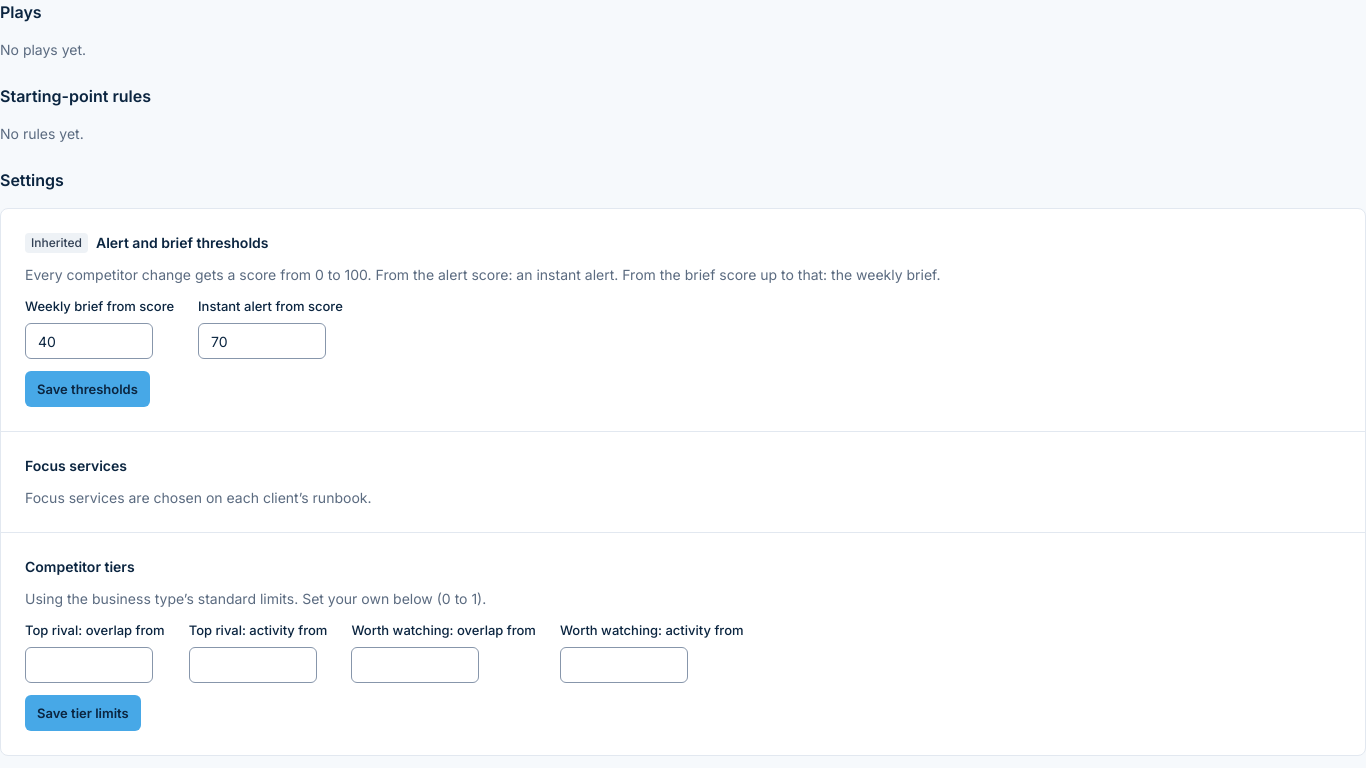
Test: RunbookEditor › uses the same refusal copy as alert rules for thresholds
The width and height of the screenshot is (1366, 768).
Replace the text in the number field labelled "Weekly brief from score" with "80". click: (89, 341)
box: [25,323,153,359]
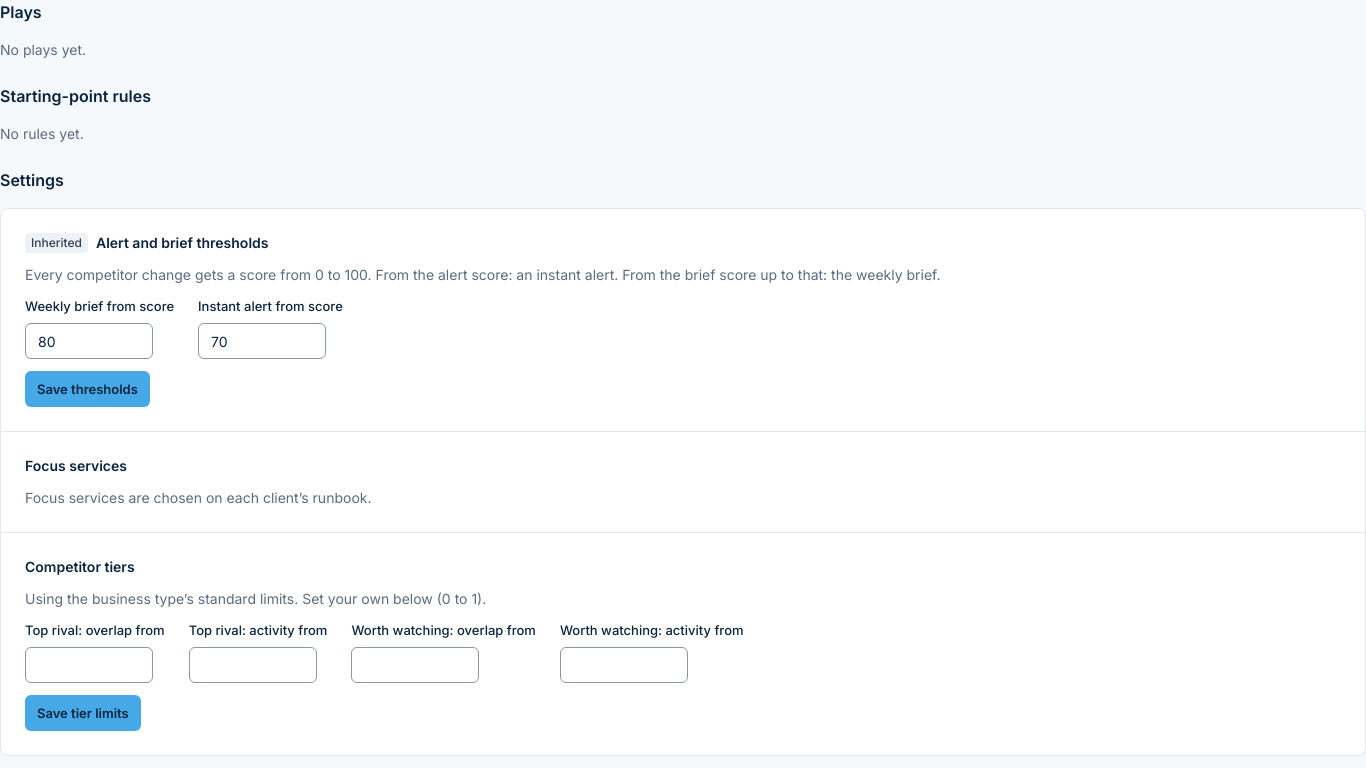
Click the button "Save thresholds". click: click(87, 389)
box: [25,371,150,407]
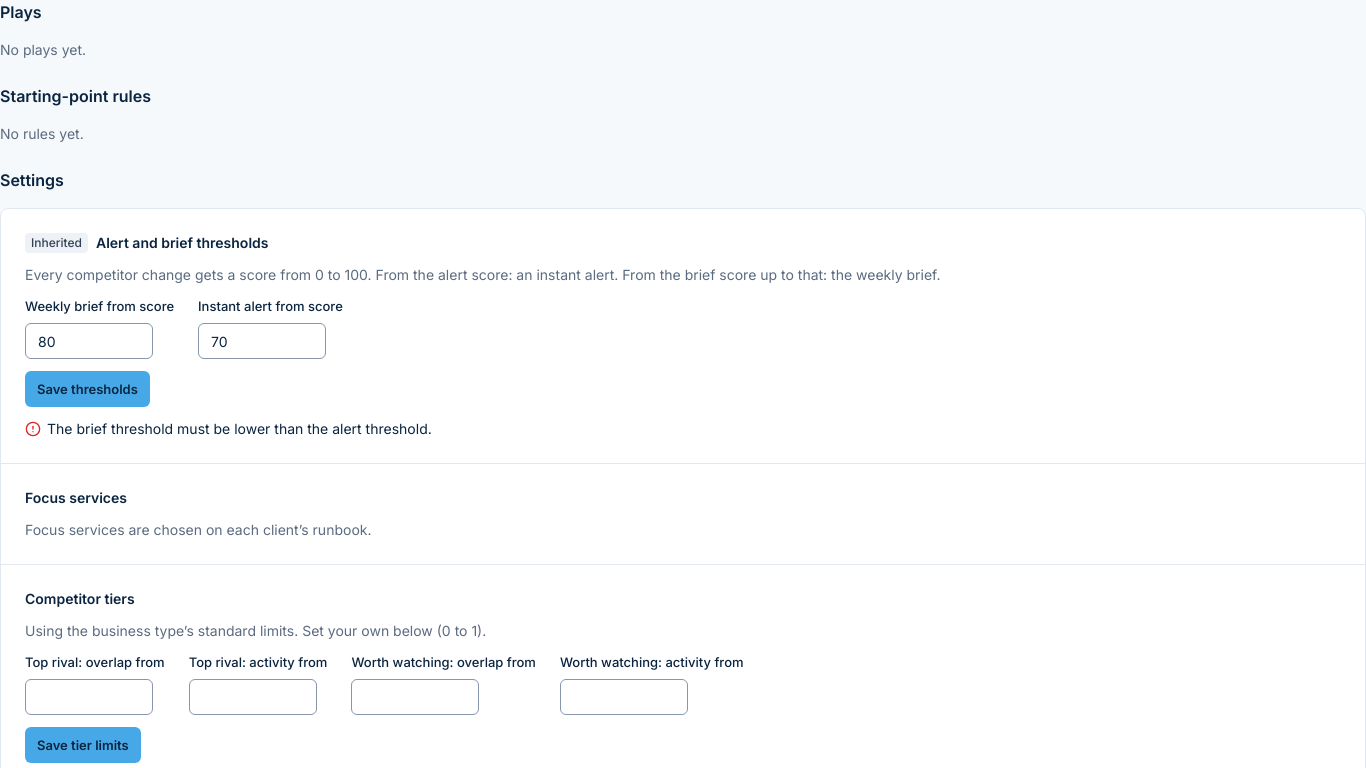
Expected: the message reads "The brief threshold must be lower than the alert threshold.", [47,420,432,437]
